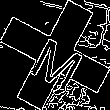M_NE: (23, 22, 87, 88)
